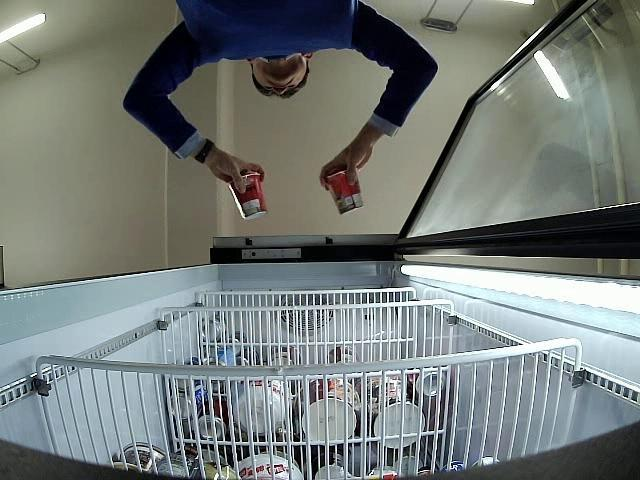02_shinRamen_S: (228, 173, 268, 222), (326, 168, 364, 216)
